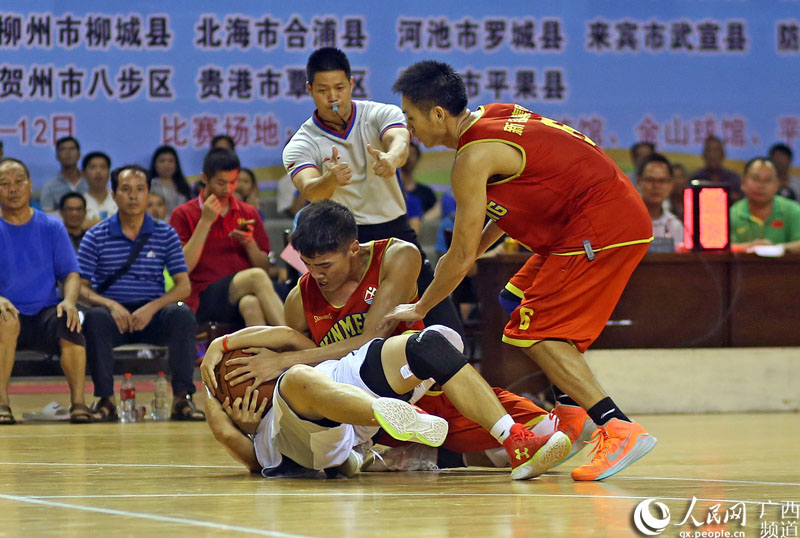10+: (1, 55, 800, 480)
down: (197, 325, 465, 487), (282, 197, 444, 379)
